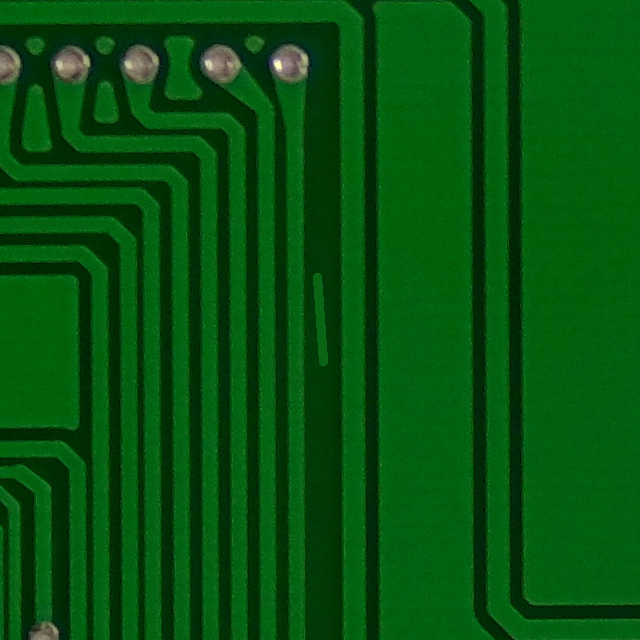spurious_copper: (295, 261, 346, 379)
